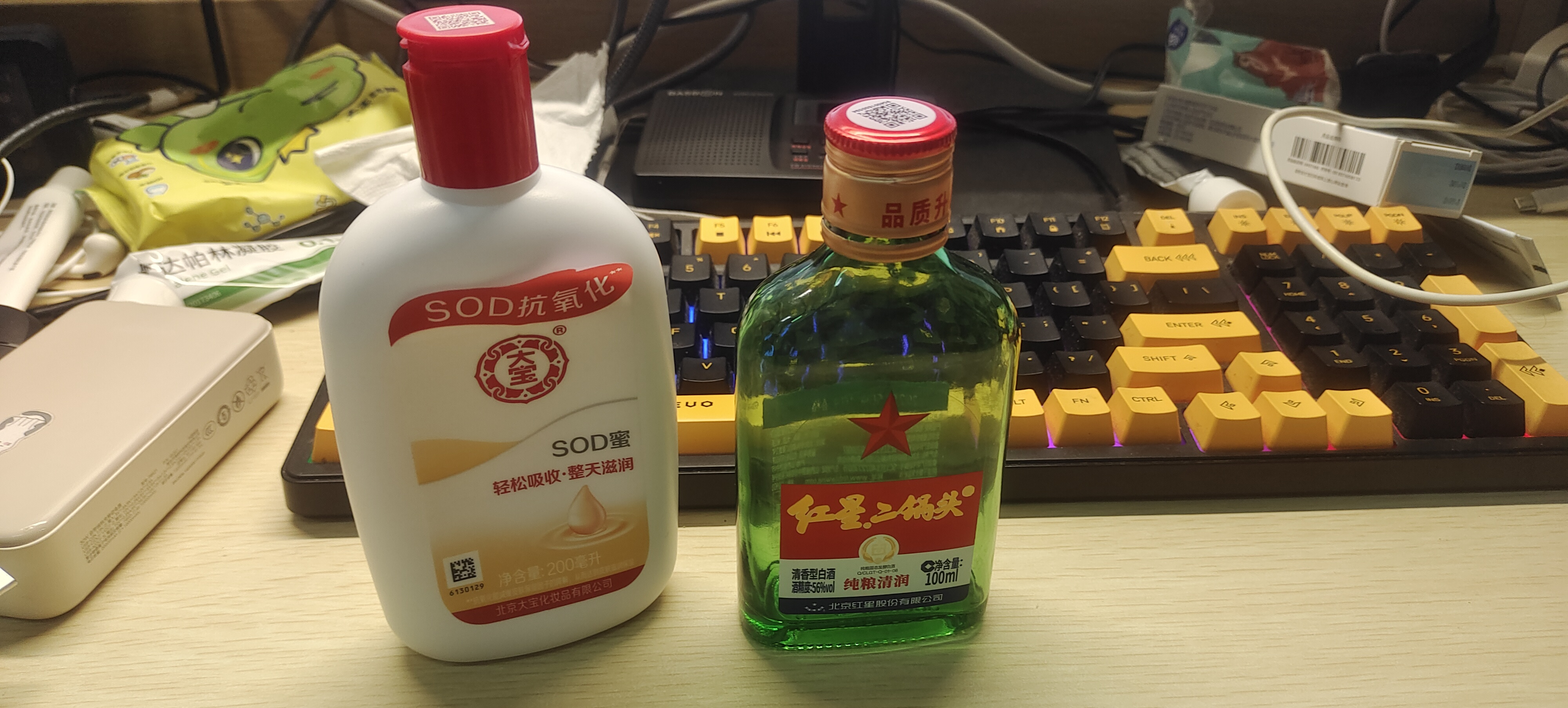redbull: (848, 114, 1024, 643), (789, 290, 906, 708)
